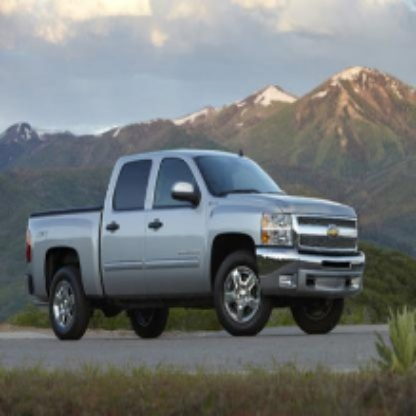Vehicle: (26, 148, 367, 344)
